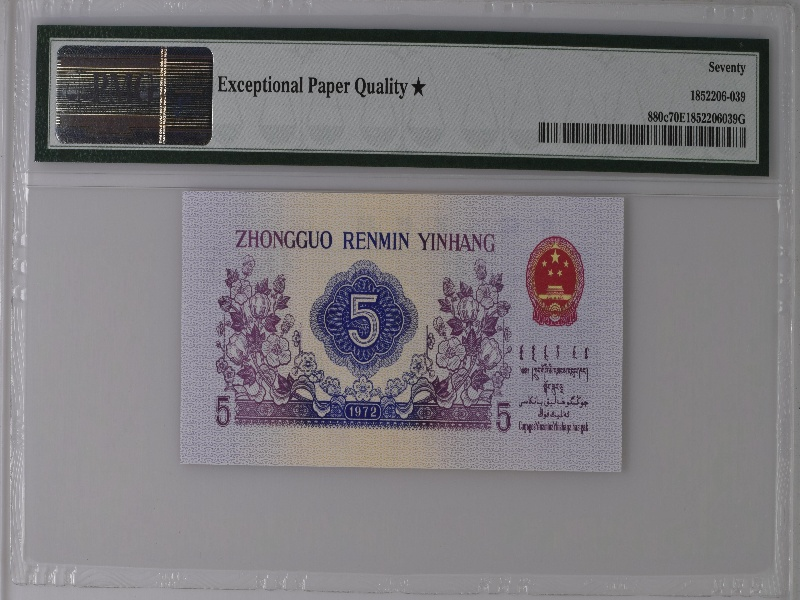papernote: (180, 187, 627, 479)
